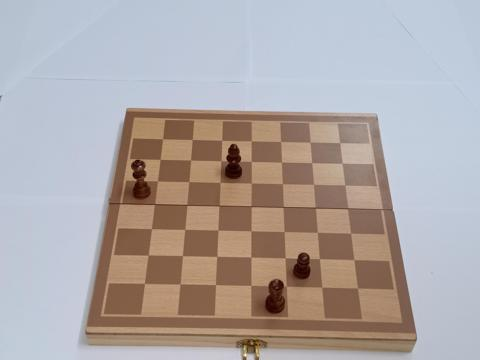xcorner: (185, 155, 195, 165), (154, 155, 164, 164), (149, 201, 159, 210), (140, 280, 150, 289), (187, 134, 196, 144), (215, 178, 225, 187), (213, 253, 222, 263), (247, 202, 256, 212), (247, 227, 256, 237), (247, 254, 257, 263), (308, 158, 318, 167), (316, 255, 326, 264), (319, 283, 328, 293), (337, 137, 346, 147), (339, 158, 348, 168), (345, 204, 354, 214), (157, 134, 166, 143), (152, 177, 161, 186), (147, 226, 156, 235), (144, 252, 153, 261), (184, 178, 193, 187), (182, 201, 191, 210), (180, 226, 189, 235), (178, 253, 187, 262), (176, 281, 185, 290), (217, 135, 226, 144), (216, 156, 225, 165), (215, 202, 224, 211), (214, 227, 223, 236), (212, 282, 221, 291), (247, 136, 256, 145), (247, 157, 256, 166), (247, 179, 256, 188), (248, 282, 257, 291), (277, 136, 286, 145), (278, 157, 287, 166), (279, 180, 288, 189), (280, 203, 289, 212), (281, 228, 290, 237), (282, 255, 291, 264), (283, 283, 292, 292), (307, 137, 316, 146), (310, 180, 319, 189), (312, 204, 321, 213), (314, 229, 323, 238), (342, 181, 351, 190), (348, 229, 357, 238), (351, 256, 360, 265), (354, 284, 363, 293)
